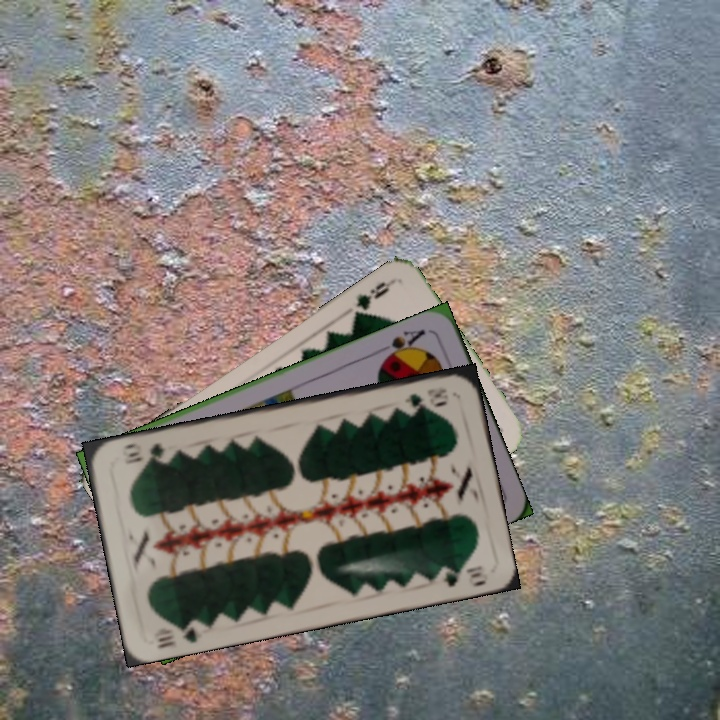G10: (149, 616, 205, 651), (400, 383, 450, 410)
G9: (349, 276, 397, 322)
SA: (374, 325, 428, 364)
